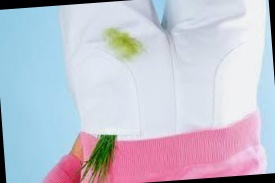earth: (108, 28, 143, 59)
